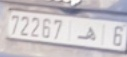2: (30, 17, 41, 38), (20, 16, 30, 36)
6: (41, 17, 52, 39), (113, 24, 123, 47)
7: (52, 18, 64, 39), (10, 14, 19, 36)
h: (76, 24, 97, 42)
